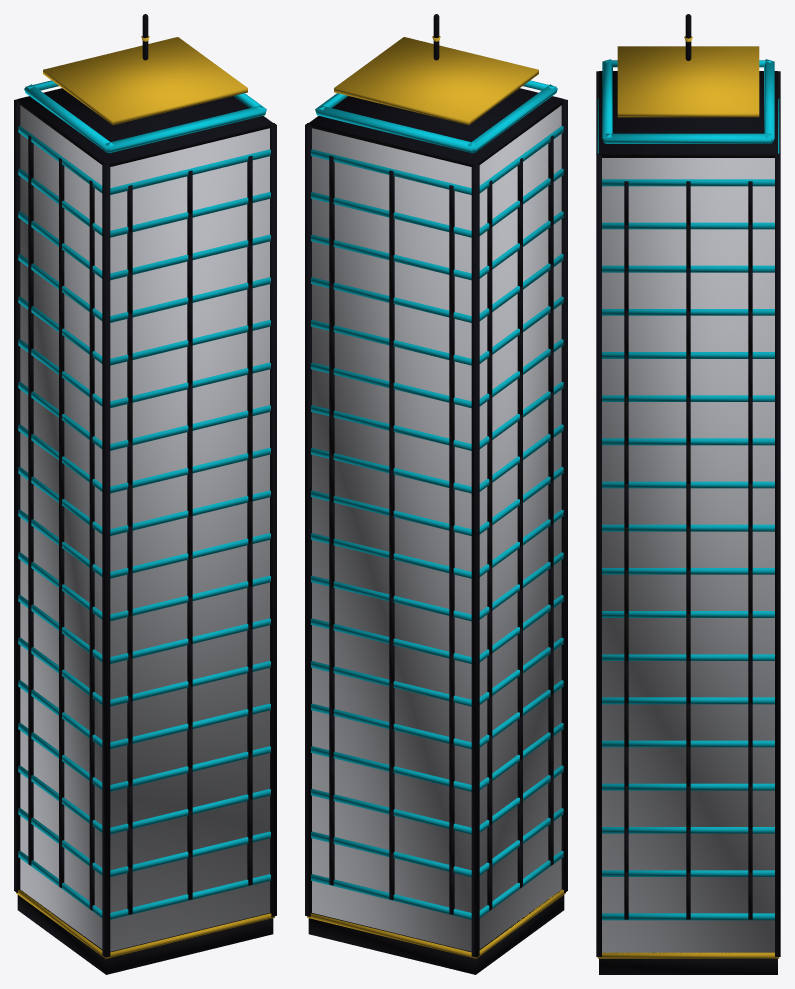
Rendered from skyscraper_b.glb.
3 views of the same model, side by side, from view 1: azimuth 30°, elevation 25°; view 2: azimuth 150°, elevation 25°; view 3: azimuth 270°, elevation 25° (orthographic).
Visible parts, largest first — view 1: skyscraper_b; view 2: skyscraper_b; view 3: skyscraper_b.
Part boxes in pixels (x1=…): skyscraper_b: x1=14, y1=14, x2=276, y2=974; skyscraper_b: x1=305, y1=14, x2=567, y2=974; skyscraper_b: x1=596, y1=14, x2=780, y2=974.
Bounding box in the file's own units: 7.5 × 37.91 × 6.9.
